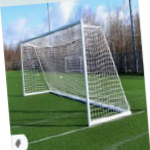goals: (17, 17, 133, 128)
